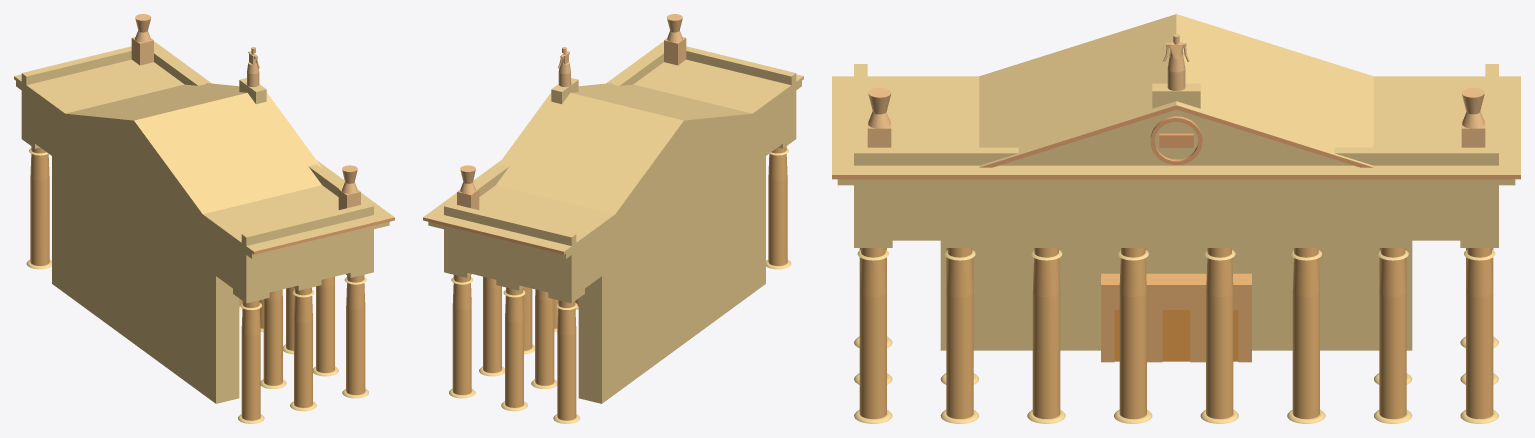
Rendered from KuzDramTheater.glb.
3 views of the same model, side by side, from view 1: azimuth 30°, elevation 25°; view 2: azimuth 150°, elevation 25°; view 3: azimuth 270°, elevation 25° (orthographic). The views are drawn at different scales.
Visible parts, largest first — view 1: Твердое тело1 (×8), Твердое тело2; view 2: Твердое тело1 (×8), Твердое тело2; view 3: Твердое тело1 (×9), Твердое тело2.
Part boxes in pixels (x1=…): Твердое тело1 (×8): x1=21, y1=14, x2=386, y2=423; Твердое тело2: x1=14, y1=42, x2=381, y2=258; Твердое тело1 (×8): x1=431, y1=14, x2=796, y2=423; Твердое тело2: x1=423, y1=74, x2=803, y2=258; Твердое тело1 (×9): x1=854, y1=42, x2=1498, y2=423; Твердое тело2: x1=832, y1=14, x2=1520, y2=185.
Size of the model in its own units: 0.017 by 0.0307 by 0.0501.
